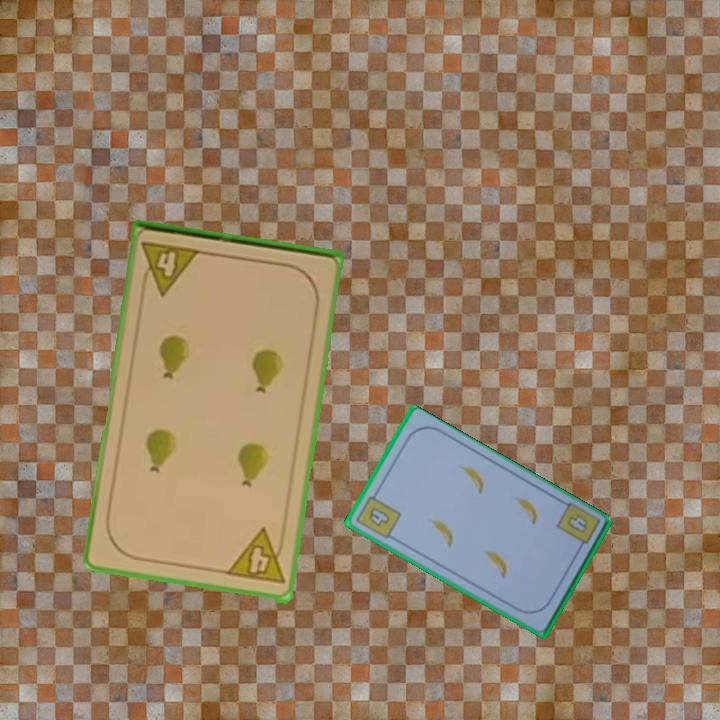4b: (352, 487, 404, 542), (563, 511, 591, 537)
4p: (222, 526, 289, 588), (138, 238, 203, 298)
